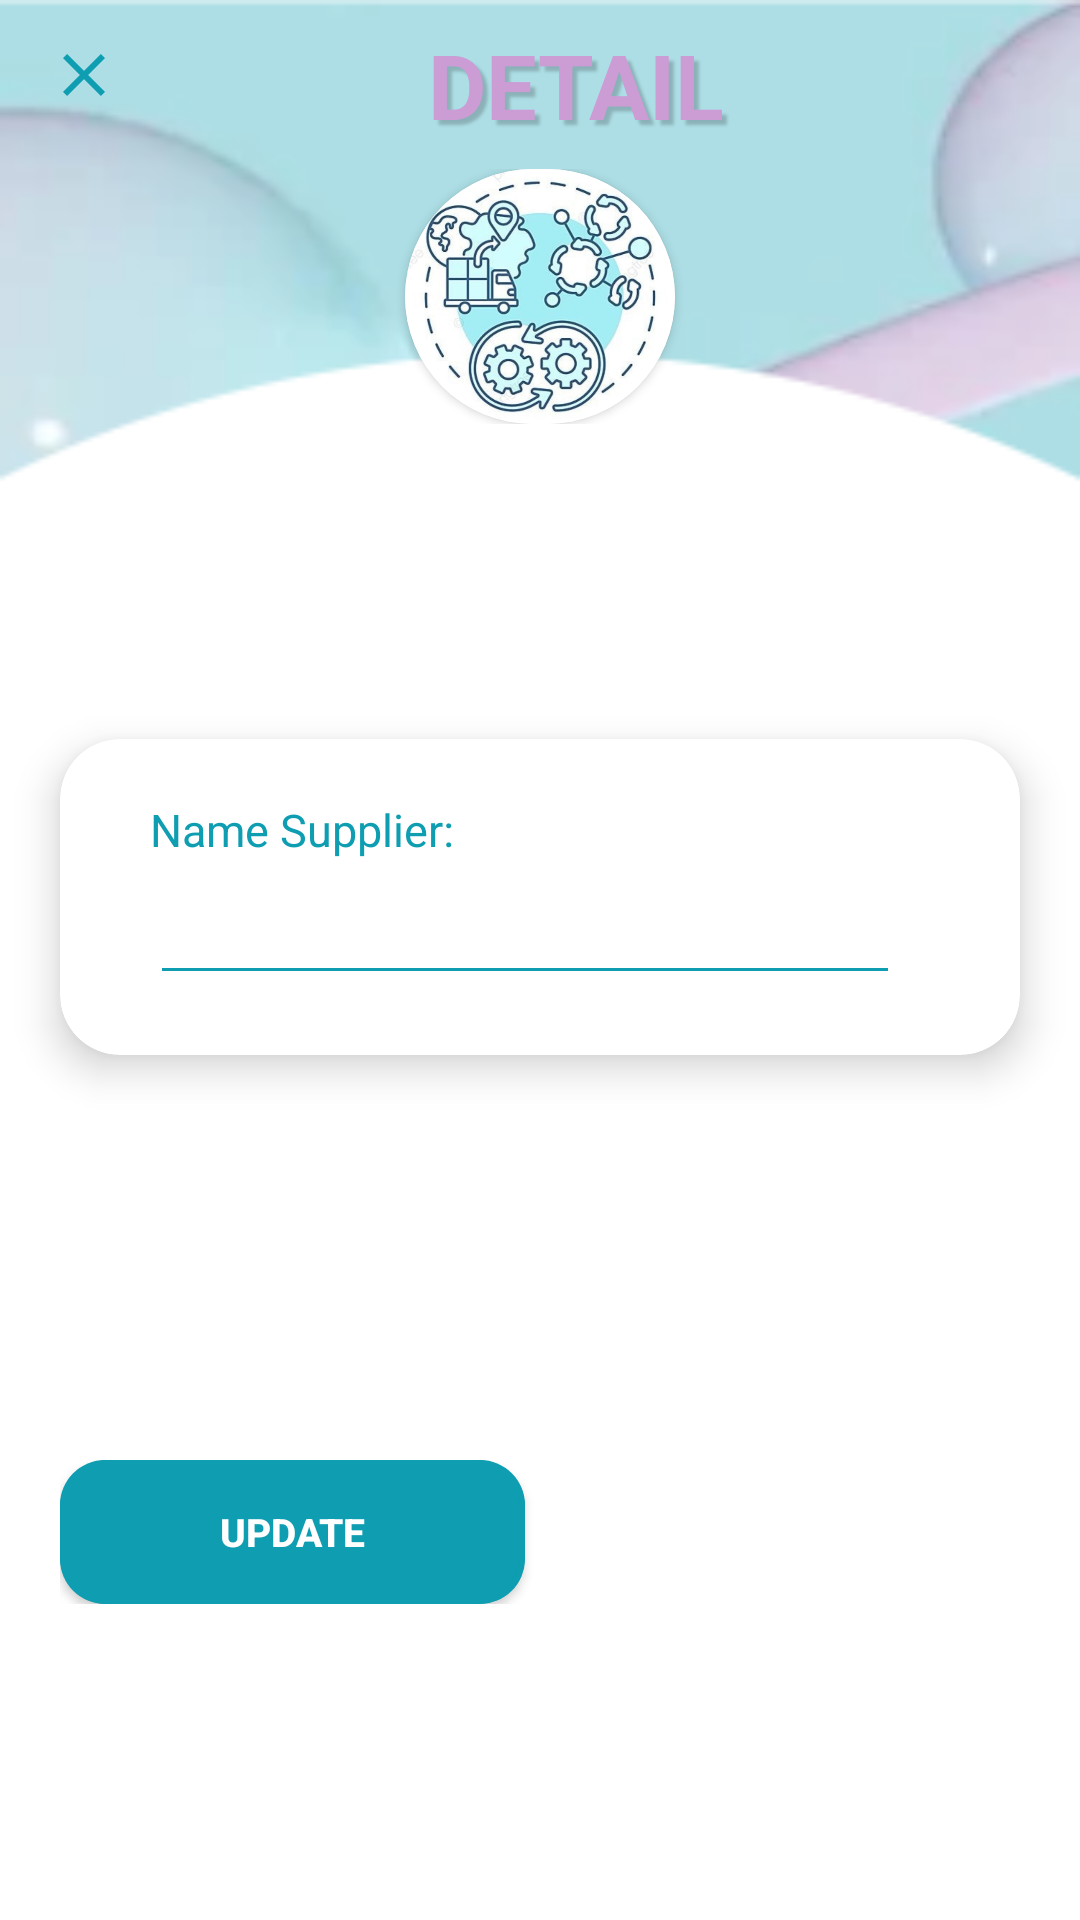

Where to tap for icons on this 1080px x 1920px app screen, as (x,y):
close: (84,75)
supplier: (540,296)
